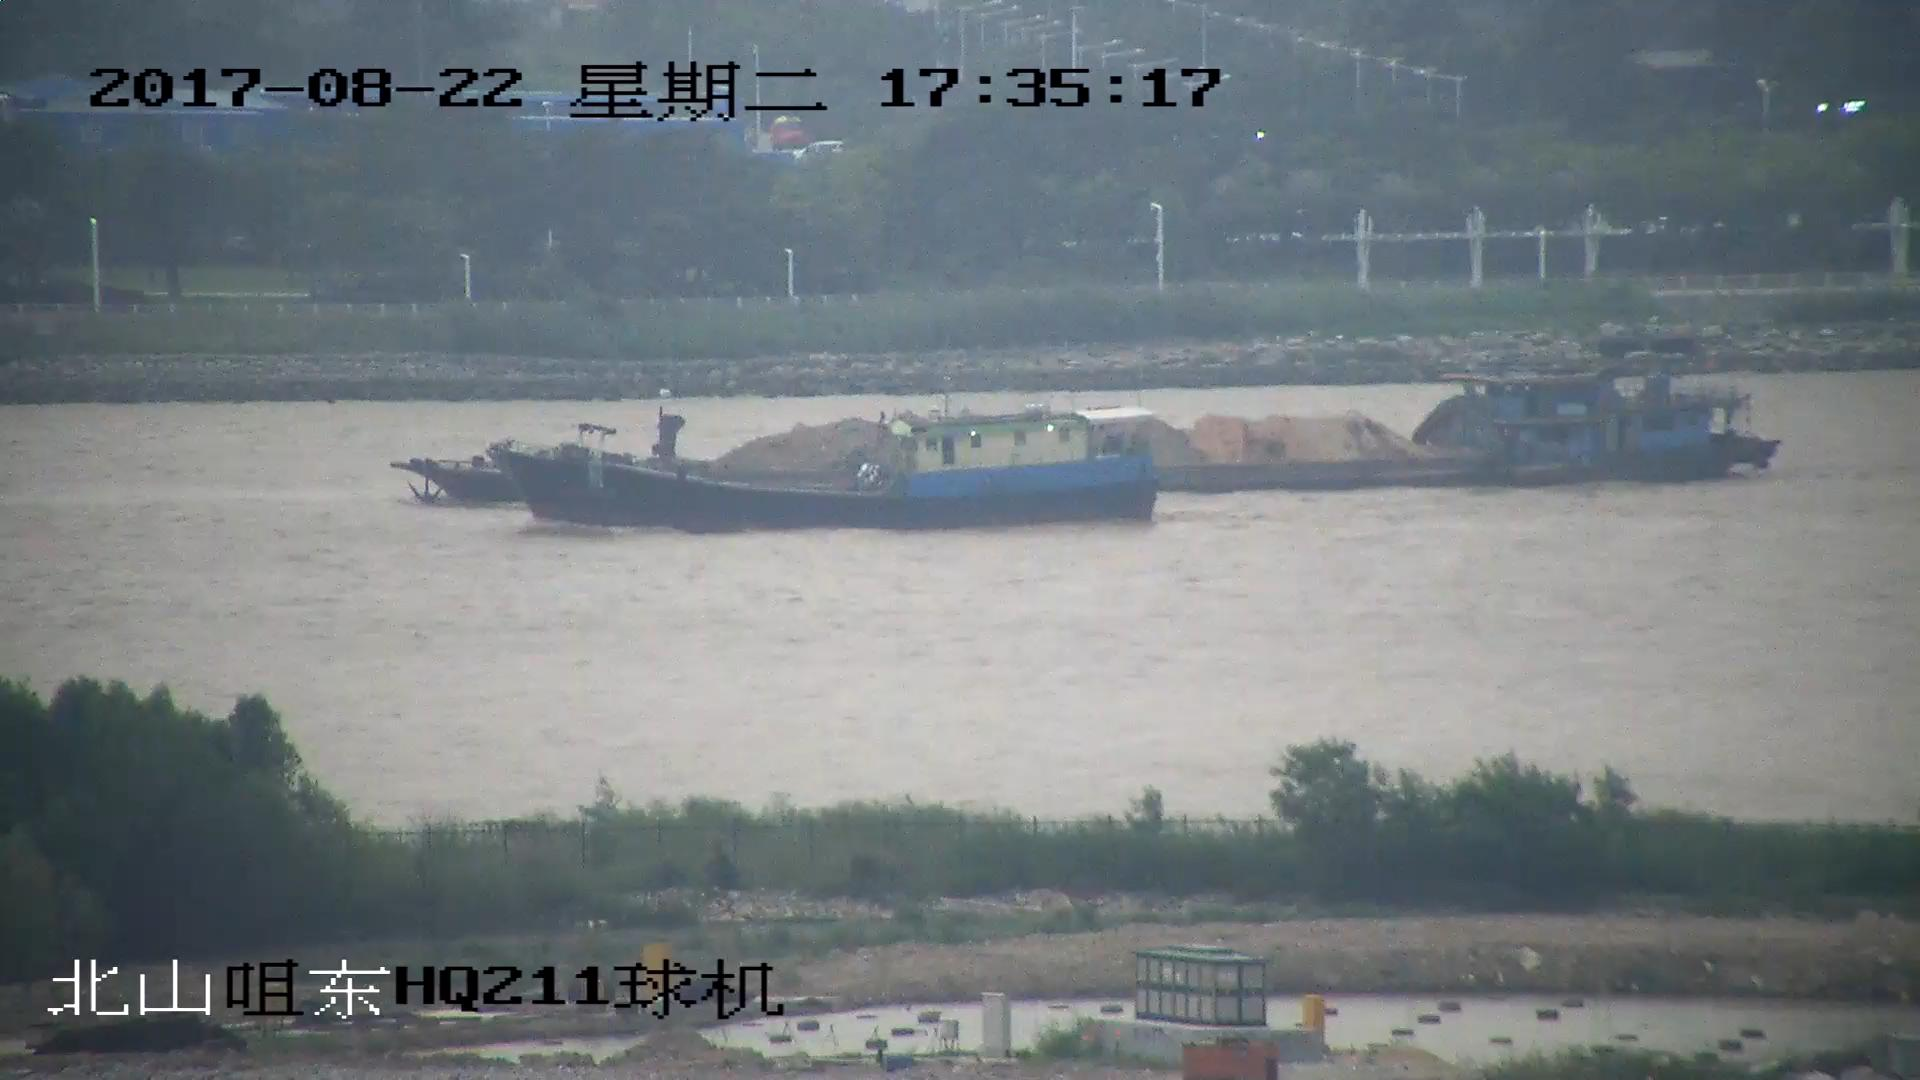fishing boat: (499, 390, 1151, 524)
ore carrier: (399, 365, 1784, 497)
